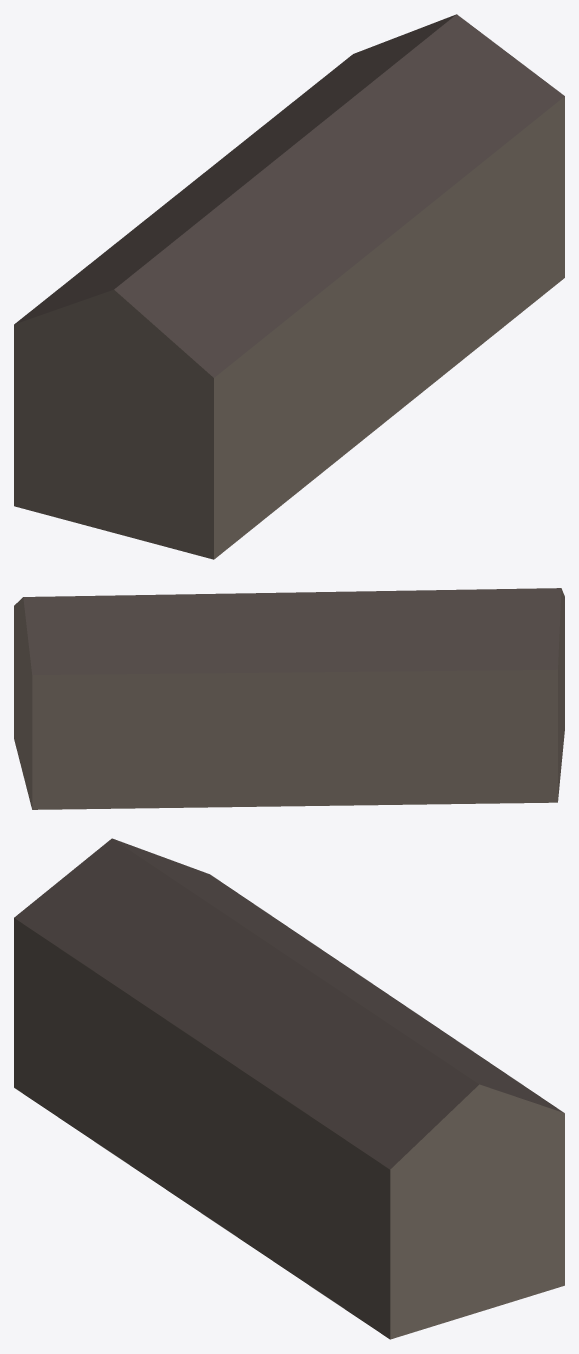
The picture shows the model from 3 angles, top to bottom: view 1: azimuth 30°, elevation 25°; view 2: azimuth 150°, elevation 25°; view 3: azimuth 270°, elevation 25°; orthographic projection. The views are drawn at different scales.
Visible parts, largest first — view 1: HP-w305412559; view 2: HP-w305412559; view 3: HP-w305412559.
Part boxes in pixels (<box>): HP-w305412559: <box>14,14,564,559</box>; HP-w305412559: <box>14,588,564,809</box>; HP-w305412559: <box>14,838,564,1339</box>.
Bounding box in the file's own units: 33.56 × 12.06 × 26.45.
